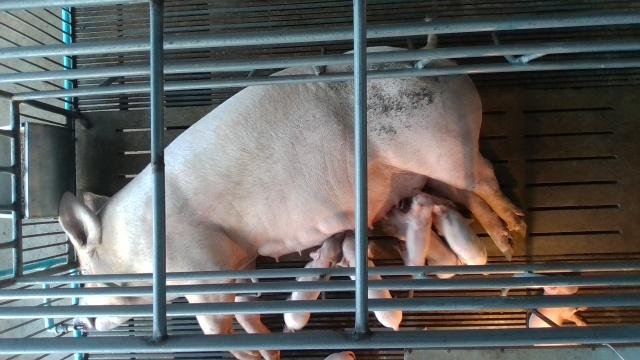piglet: (338, 230, 404, 332), (282, 230, 344, 333), (428, 191, 492, 276), (382, 185, 444, 267), (398, 208, 462, 280), (528, 285, 588, 347)
sow-sleep-lactate: (58, 46, 524, 360)
